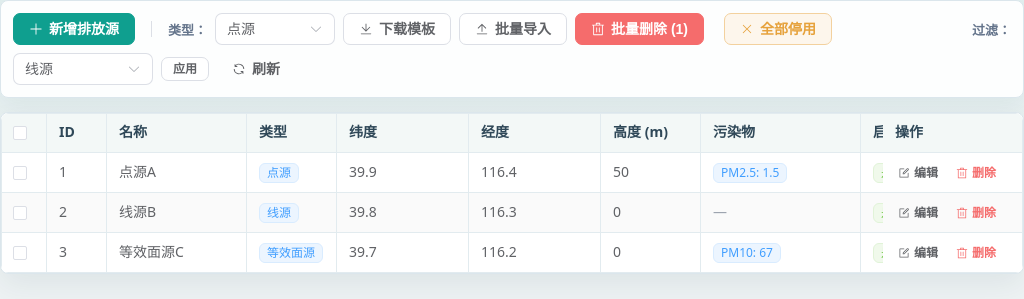
Test: SourcesView › 应用筛选条件后清空已选排放源_避免删除过滤视图外旧行
Click the button with test id "apply-source-type-filter" at [185, 69], box top-left (161, 57), bottom-right (209, 81)
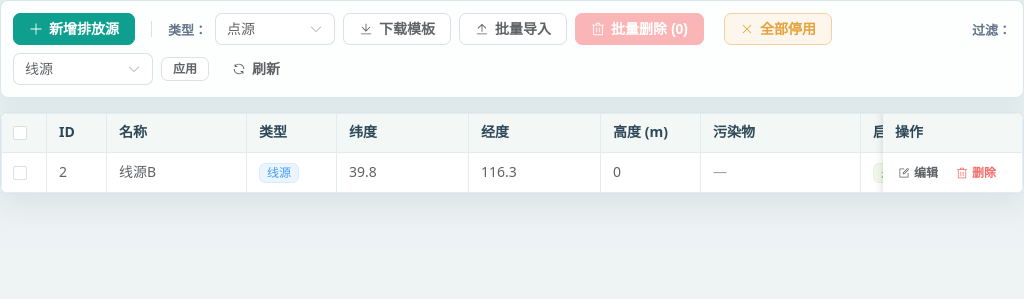
Check: the text "线源B" is shown, box top-left (119, 162), bottom-right (156, 181)
Check: the text "批量删除 (0)" is shown, box top-left (611, 22), bottom-right (688, 36)
Check: the text "点源A" is gone
